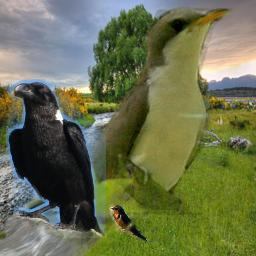Crow: (6, 79, 106, 238)
Cuckoo: (26, 1, 236, 249)
Swallow: (109, 204, 151, 245)
